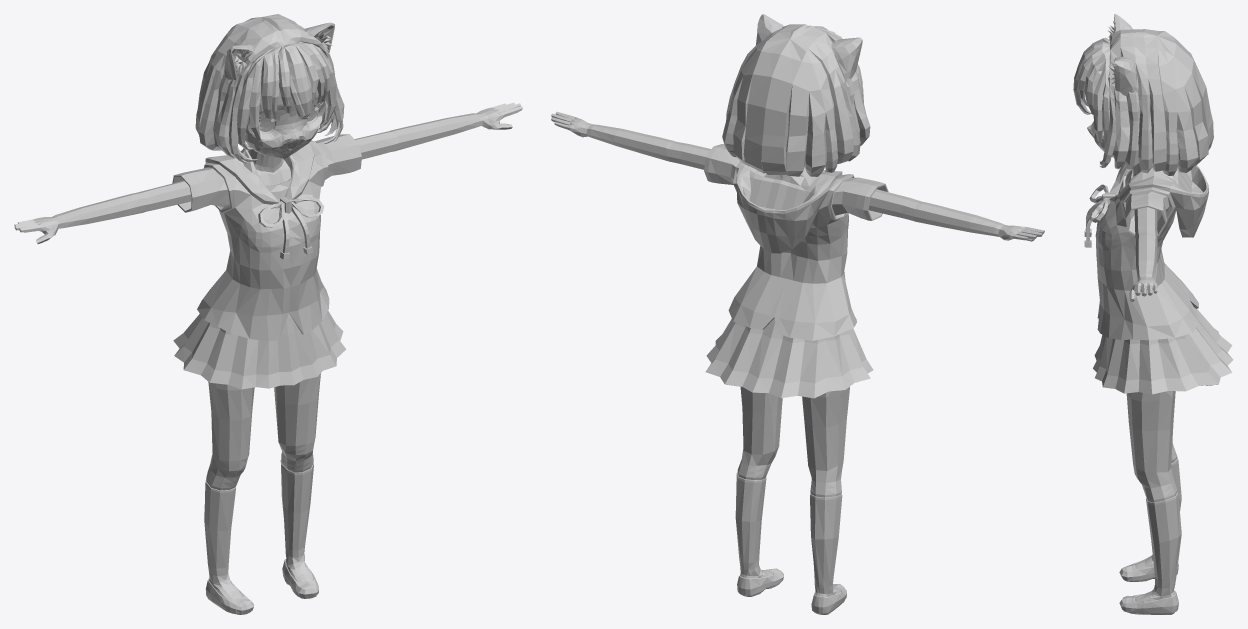
The picture shows the model from 3 angles, left to right: view 1: azimuth 30°, elevation 25°; view 2: azimuth 150°, elevation 25°; view 3: azimuth 270°, elevation 25°; orthographic projection. The views are drawn at different scales.
Parts seen in each view (by area): view 1: C001_C001_HoodFukuMat_(Instance), C001_C001_CecilHada_(Instance)1, C001_C001_ClusterKamiBMat_(Instance), C001_C001_HoodSkirtMat_(Instance), C001_C001_HoodKutuShitaMat_(Instance), C001_C001_HoodSodeMat_(Instance), C001_C001_HoodHoodMat_(Instance), C001_C001_CecilCKao_(Instance), C001_C001_HoodHimoMat_(Instance), C001_C001_HoodKutuMat_(Instance), C001_C001_CecilHada_(Instance)2, C001_C001_NekomimiMat_(Instance); view 2: C001_C001_ClusterKamiBMat_(Instance), C001_C001_CecilHada_(Instance)1, C001_C001_HoodFukuMat_(Instance), C001_C001_HoodSkirtMat_(Instance), C001_C001_HoodKutuShitaMat_(Instance), C001_C001_HoodHoodMat_(Instance), C001_C001_HoodSodeMat_(Instance), C001_C001_HoodHoodMatB_(Instance), C001_C001_NekomimiMat_(Instance), C001_C001_HoodKutuMat_(Instance); view 3: C001_C001_ClusterKamiBMat_(Instance), C001_C001_HoodFukuMat_(Instance), C001_C001_HoodSkirtMat_(Instance), C001_C001_CecilHada_(Instance)1, C001_C001_HoodKutuShitaMat_(Instance), C001_C001_HoodHoodMat_(Instance), C001_C001_HoodKutuMat_(Instance), C001_C001_HoodSodeMat_(Instance), C001_C001_NekomimiMat_(Instance), C001_C001_HoodHimoMat_(Instance), C001_C001_HoodHoodMatB_(Instance).
Boxes of the visible parts, x1,y1,x2,y2 form: C001_C001_HoodFukuMat_(Instance): (197, 140, 329, 340); C001_C001_CecilHada_(Instance)1: (14, 102, 522, 490); C001_C001_ClusterKamiBMat_(Instance): (195, 14, 344, 162); C001_C001_HoodSkirtMat_(Instance): (173, 310, 346, 389); C001_C001_HoodKutuShitaMat_(Instance): (204, 458, 313, 599); C001_C001_HoodSodeMat_(Instance): (172, 134, 361, 212); C001_C001_HoodHoodMat_(Instance): (205, 143, 314, 204); C001_C001_CecilCKao_(Instance): (246, 89, 321, 158); C001_C001_HoodHimoMat_(Instance): (258, 196, 324, 259); C001_C001_HoodKutuMat_(Instance): (205, 559, 318, 613); C001_C001_CecilHada_(Instance)2: (248, 146, 291, 185); C001_C001_NekomimiMat_(Instance): (224, 22, 334, 80); C001_C001_ClusterKamiBMat_(Instance): (722, 24, 870, 176); C001_C001_CecilHada_(Instance)1: (551, 111, 1044, 497); C001_C001_HoodFukuMat_(Instance): (728, 161, 856, 340); C001_C001_HoodSkirtMat_(Instance): (705, 318, 873, 398); C001_C001_HoodKutuShitaMat_(Instance): (735, 472, 842, 596); C001_C001_HoodHoodMat_(Instance): (736, 163, 842, 253); C001_C001_HoodSodeMat_(Instance): (704, 144, 888, 220); C001_C001_HoodHoodMatB_(Instance): (740, 173, 814, 210); C001_C001_NekomimiMat_(Instance): (756, 14, 862, 81); C001_C001_HoodKutuMat_(Instance): (737, 568, 846, 613); C001_C001_ClusterKamiBMat_(Instance): (1073, 29, 1213, 175); C001_C001_HoodFukuMat_(Instance): (1095, 187, 1198, 340); C001_C001_HoodSkirtMat_(Instance): (1093, 307, 1233, 394); C001_C001_CecilHada_(Instance)1: (1126, 207, 1177, 502); C001_C001_HoodKutuShitaMat_(Instance): (1134, 458, 1181, 602); C001_C001_HoodHoodMat_(Instance): (1109, 160, 1208, 237); C001_C001_HoodKutuMat_(Instance): (1119, 561, 1178, 613); C001_C001_HoodSodeMat_(Instance): (1118, 172, 1169, 236); C001_C001_NekomimiMat_(Instance): (1114, 14, 1138, 96); C001_C001_HoodHimoMat_(Instance): (1084, 184, 1115, 247); C001_C001_HoodHoodMatB_(Instance): (1174, 166, 1206, 193).
Size of the model in its own units: 5.32 by 5.82 by 1.51.
